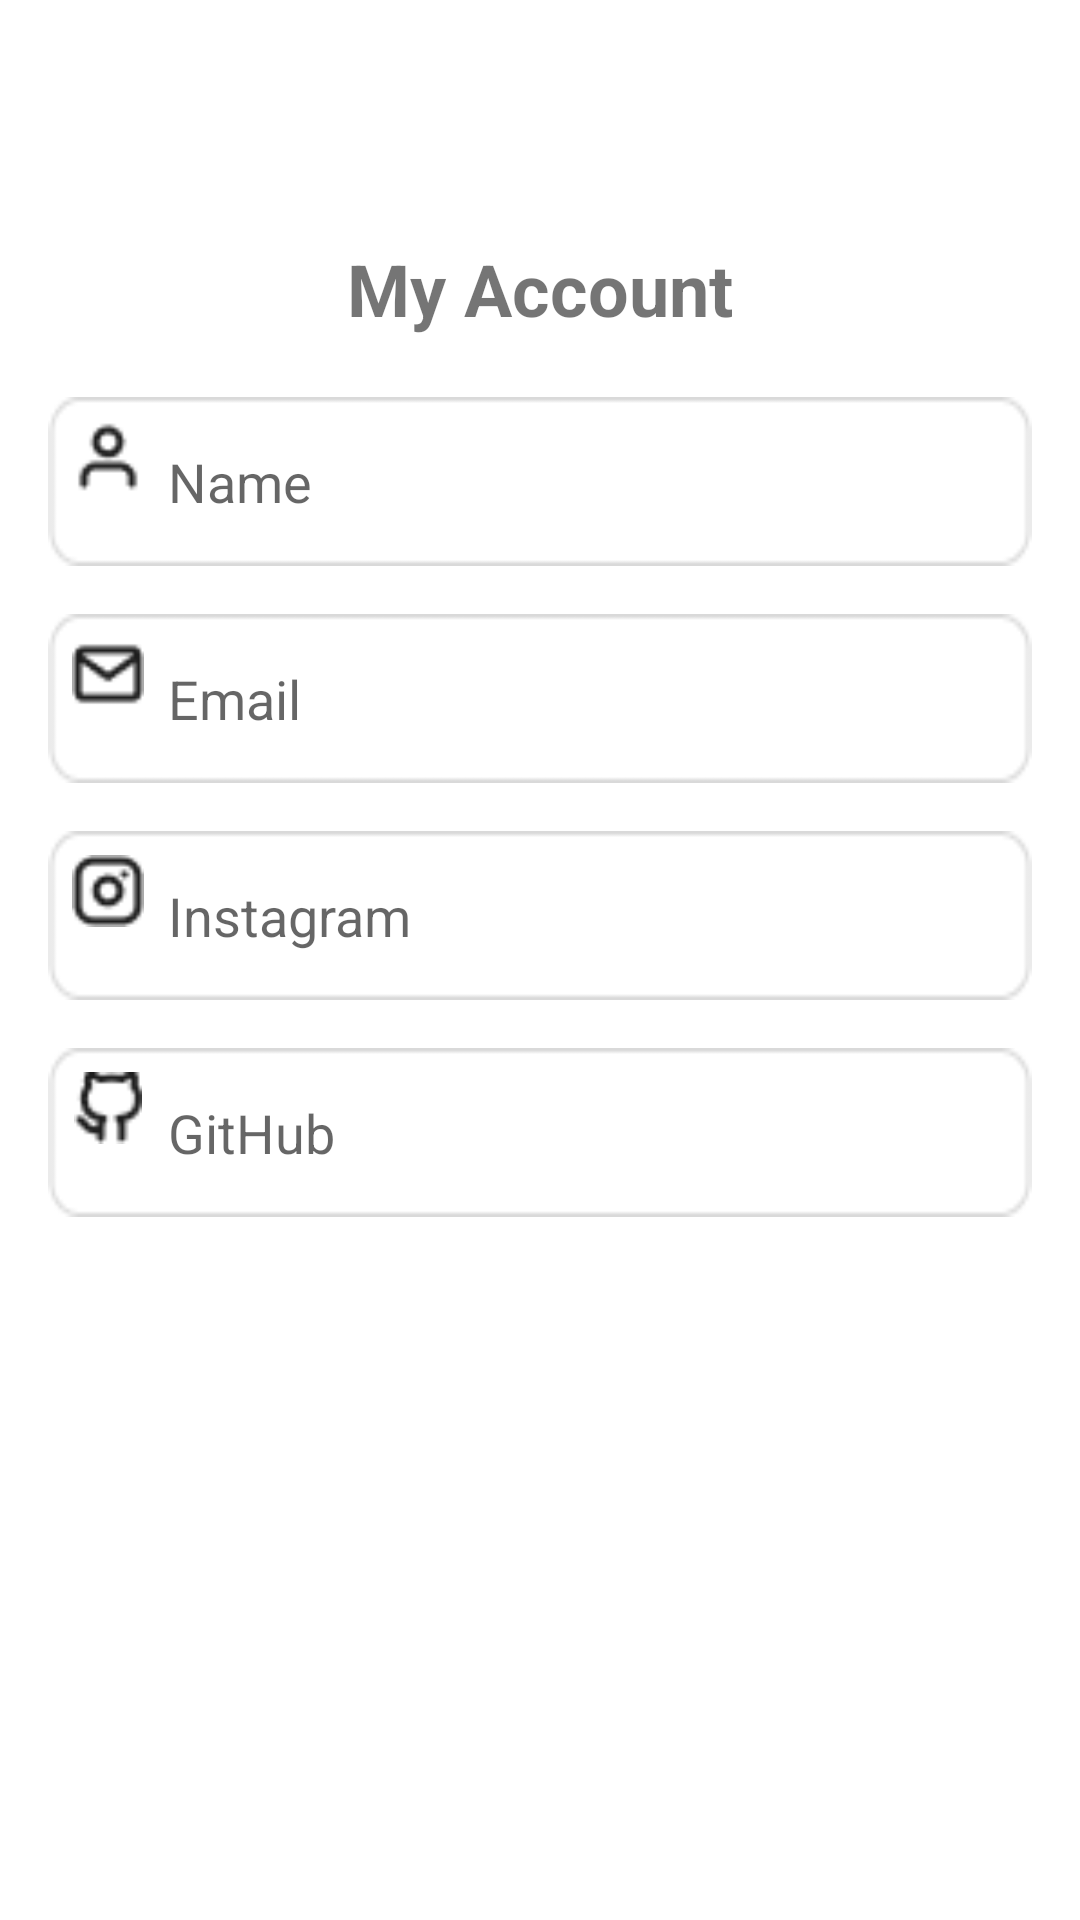

Icon click points for this 1080 × 1920 phone screenshot, format (x=x, y=y):
ID Icon: (x=108, y=457)
